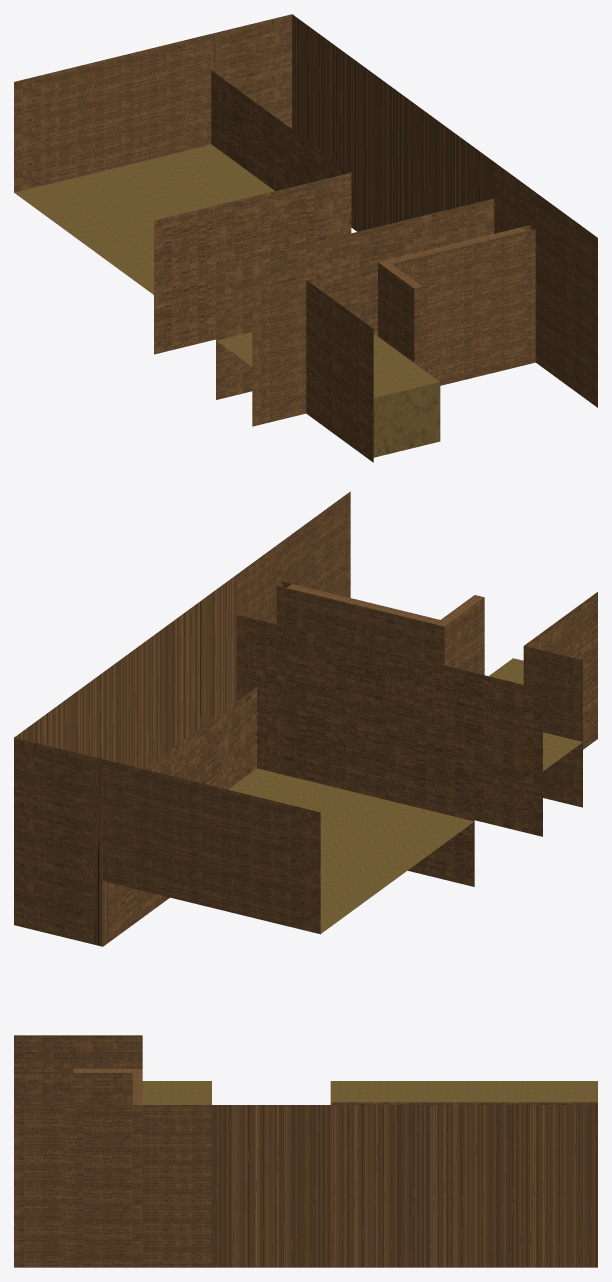
3 views of the same model, one above another, from view 1: azimuth 30°, elevation 25°; view 2: azimuth 150°, elevation 25°; view 3: azimuth 270°, elevation 25° (orthographic). The views are drawn at different scales.
Parts seen in each view (by area): view 1: map; view 2: map; view 3: map.
Boxes of the visible parts, box(x1,y1,x2,y2) form: map: box(14, 14, 597, 462); map: box(14, 491, 597, 946); map: box(14, 1035, 597, 1267).
Bounding box in the file's own units: 23.13 × 13.52 × 44.02.
Materials: 2 (2 with a texture image).
